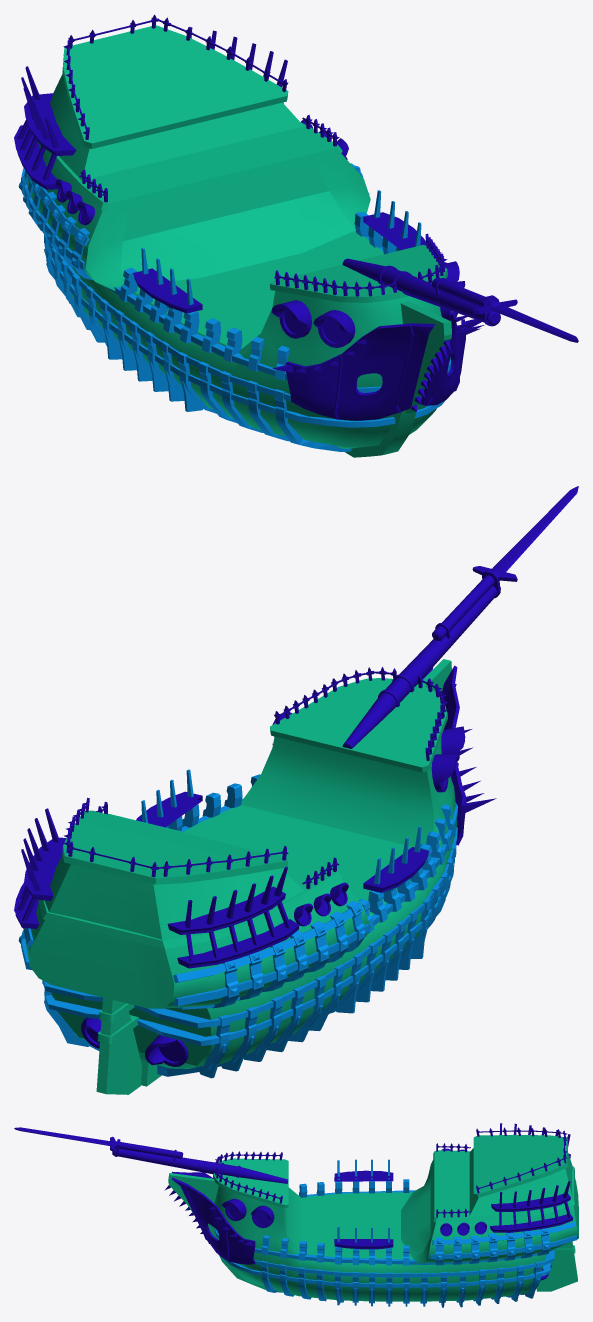
The model's file is Hull_Final.fbx.
3 renders of one model, top to bottom at view 1: azimuth 30°, elevation 25°; view 2: azimuth 150°, elevation 25°; view 3: azimuth 270°, elevation 25°, orthographic. The views are drawn at different scales.
Parts seen in each view (by area): view 1: Hull_Final; view 2: Hull_Final; view 3: Hull_Final.
Boxes of the visible parts, left/top/right/bottom form: Hull_Final: left=14, top=14, right=578, bottom=457; Hull_Final: left=14, top=486, right=578, bottom=1094; Hull_Final: left=14, top=1123, right=578, bottom=1307.
Bounding box in the file's own units: 28.86 × 26.23 × 81.96.
